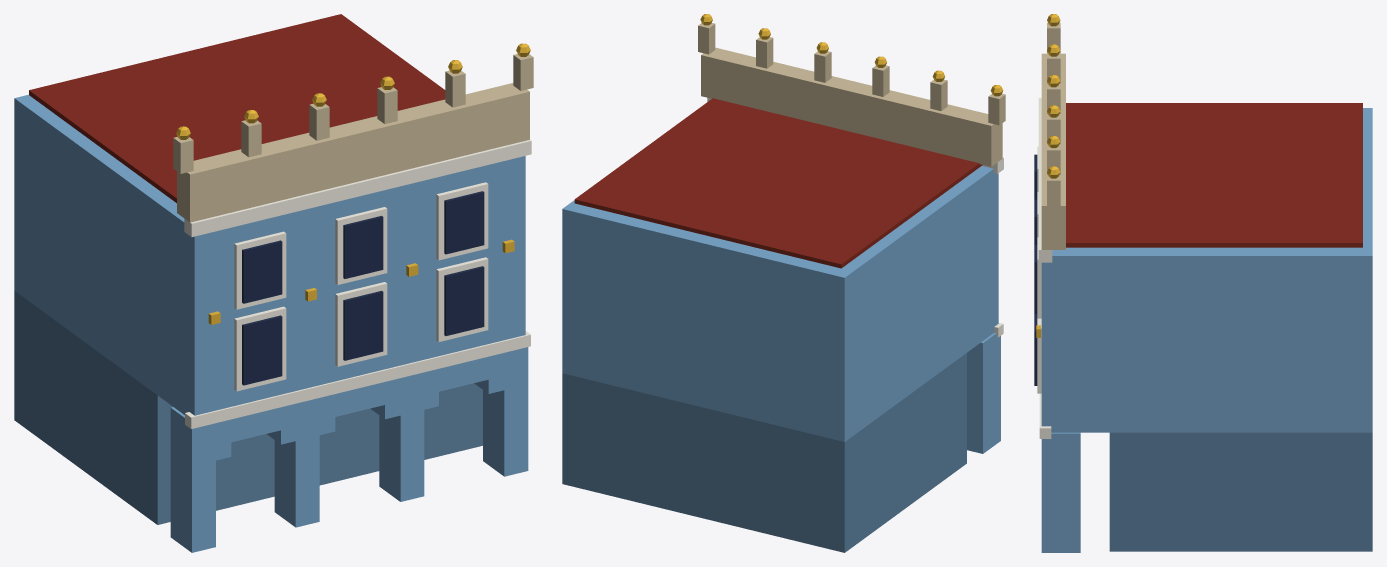
The model's file is kamienica_2.glb.
3 views of the same model, side by side, from view 1: azimuth 30°, elevation 25°; view 2: azimuth 150°, elevation 25°; view 3: azimuth 270°, elevation 25° (orthographic). The views are drawn at different scales.
Visible parts, largest first — view 1: kamienica_2; view 2: kamienica_2; view 3: kamienica_2.
Part boxes in pixels (box(x1,y1,x2,y2)): kamienica_2: box(14, 14, 533, 552); kamienica_2: box(562, 14, 1005, 552); kamienica_2: box(1034, 14, 1372, 552).
Size of the model in its own units: 3.84 by 4.39 by 3.48.
